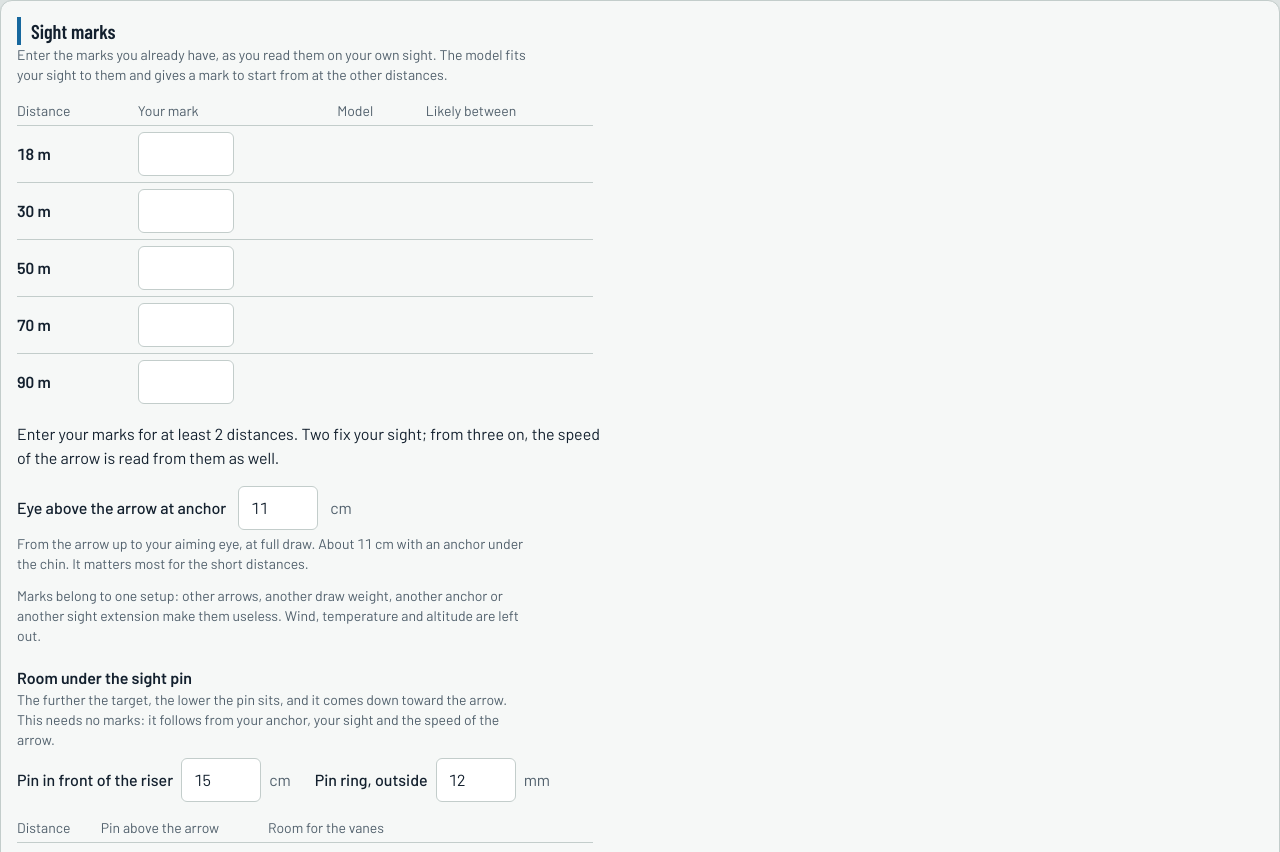
Scenario: SightMarksPanel › warns when the marks do not lie on one curve
Type "15" into the field named "Your sight mark at 18 m" at (186, 154), box [138, 132, 234, 176]
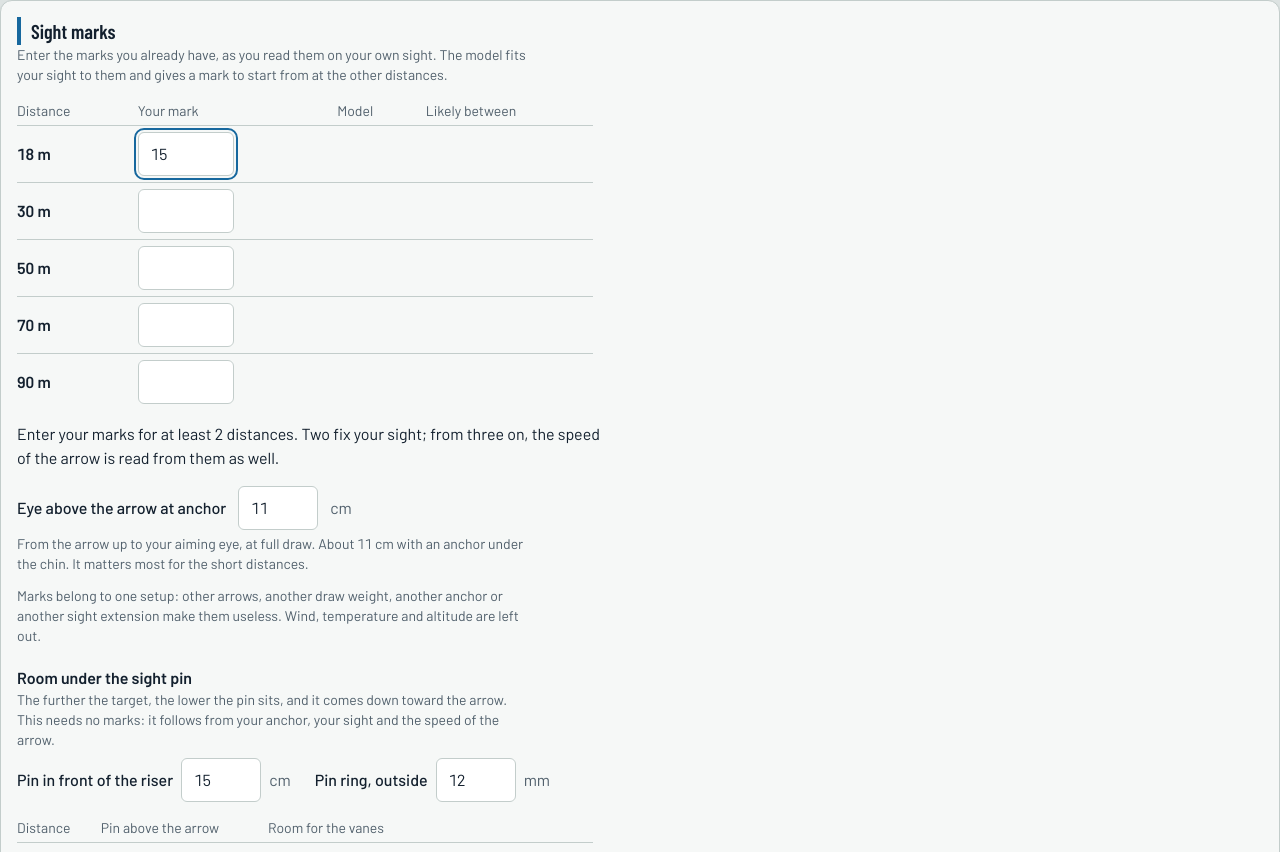
Press Tab
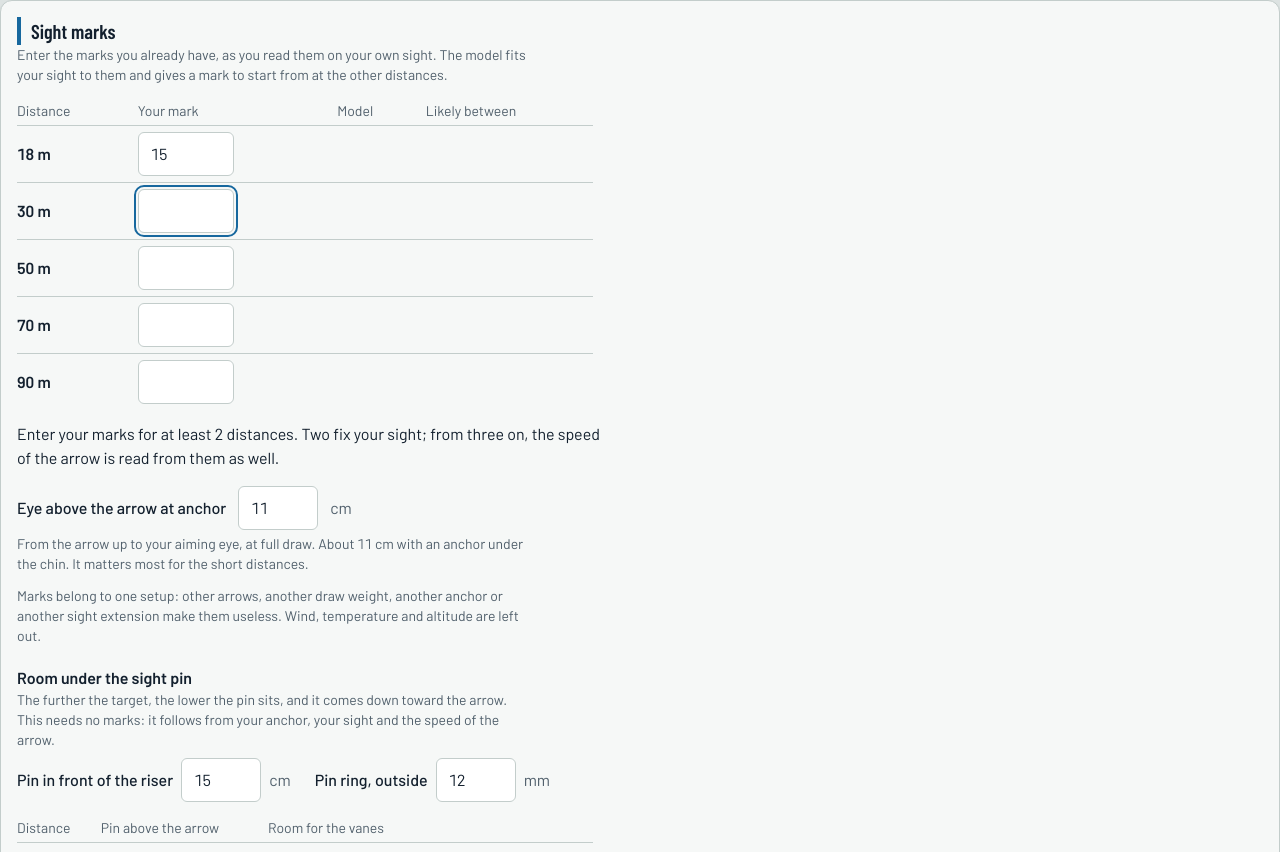
Type "14" into the field named "Your sight mark at 30 m" at (186, 211), box [138, 189, 234, 233]
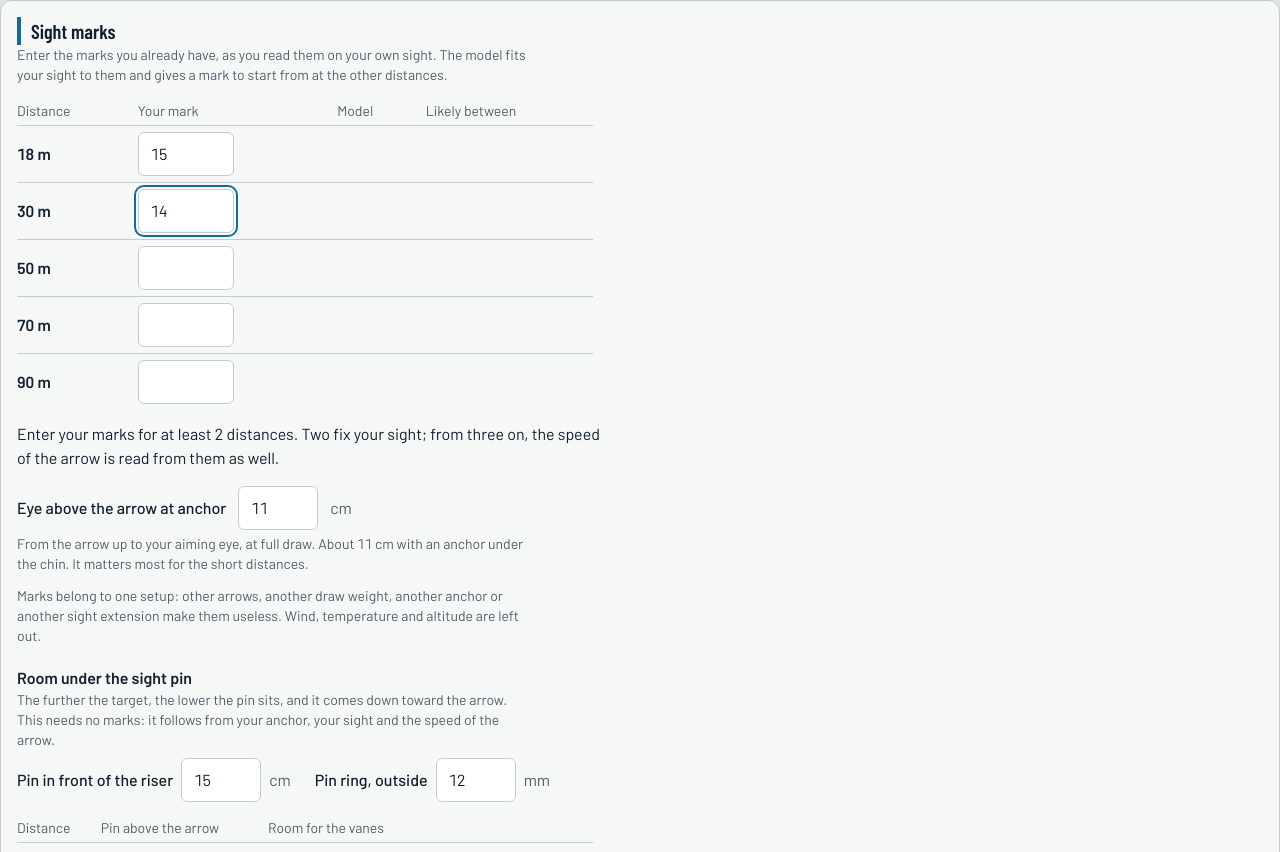
Press Tab
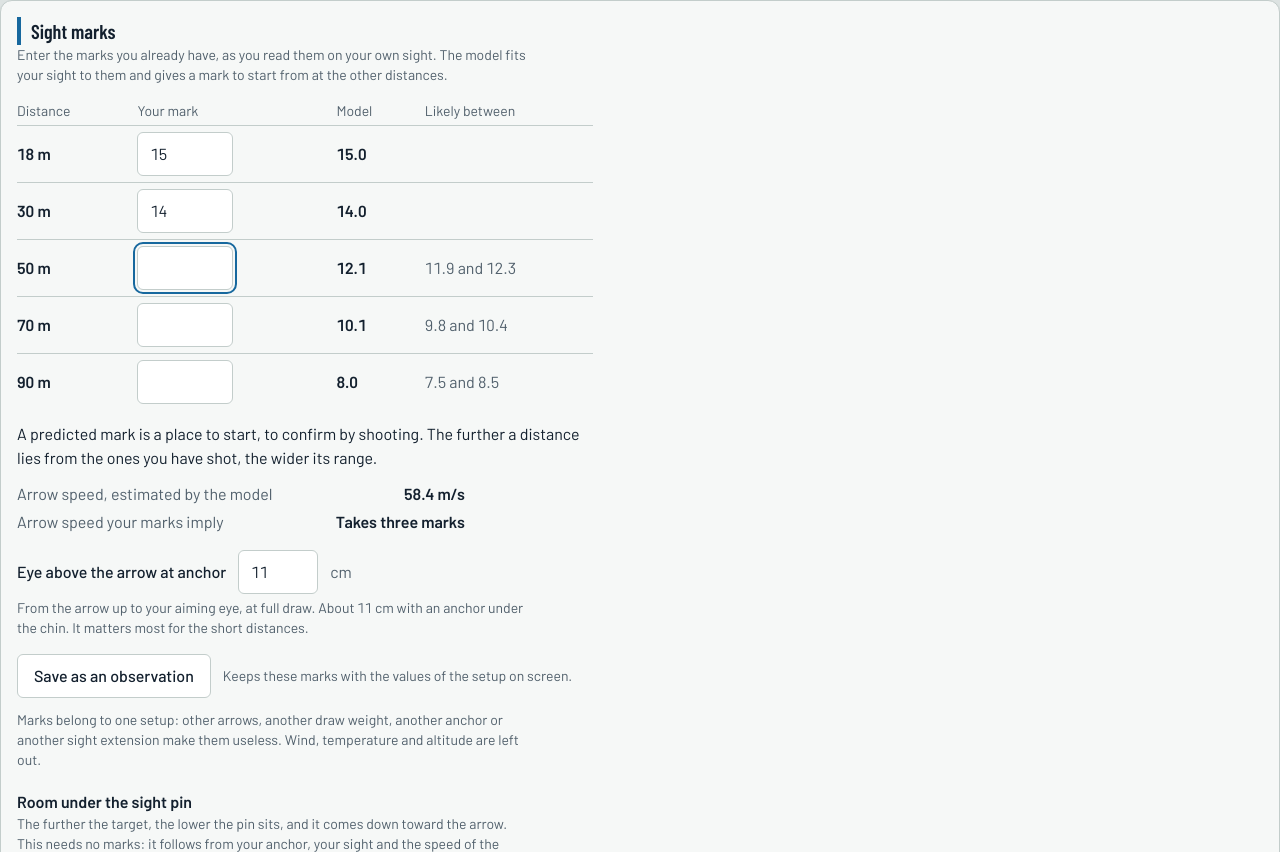
Type "40" into the field named "Your sight mark at 50 m" at (185, 268), box [137, 246, 233, 290]
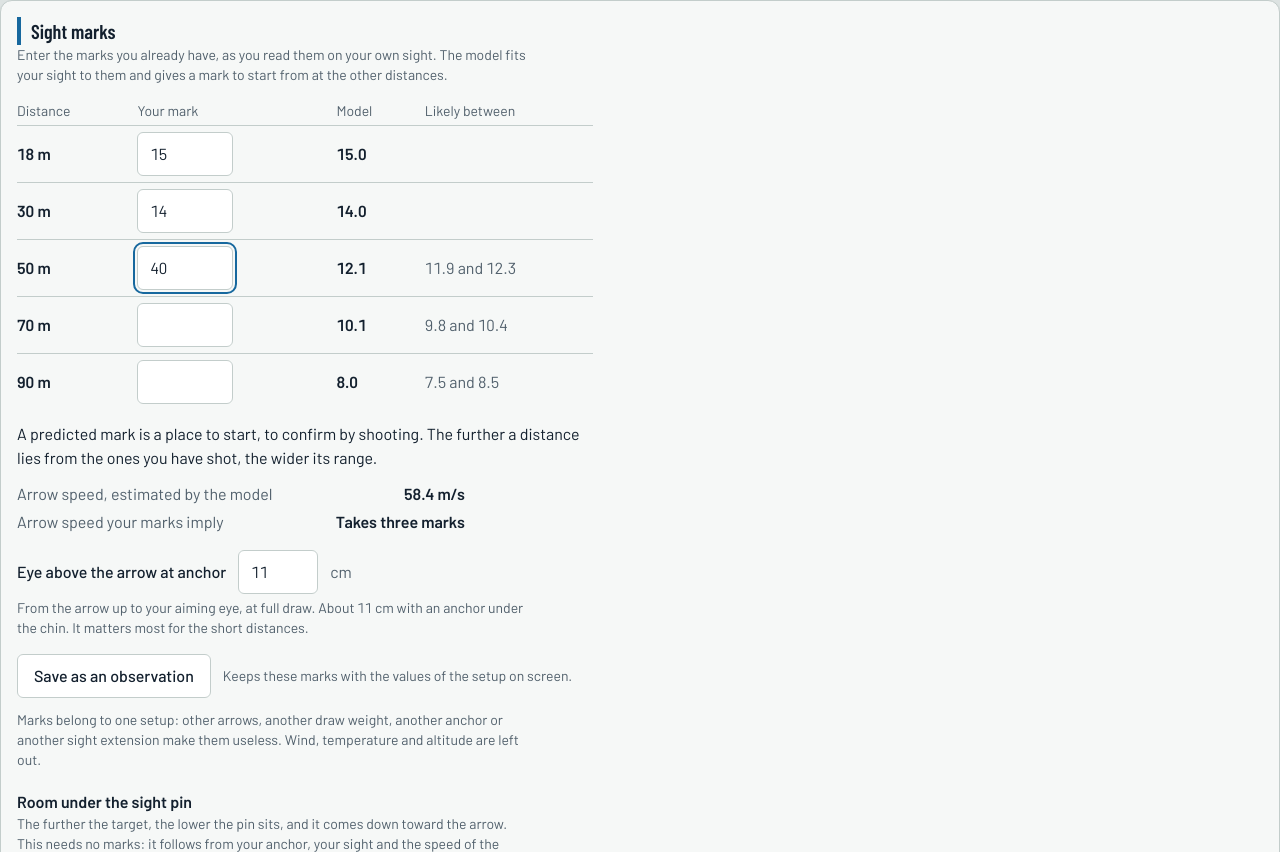
Press Tab
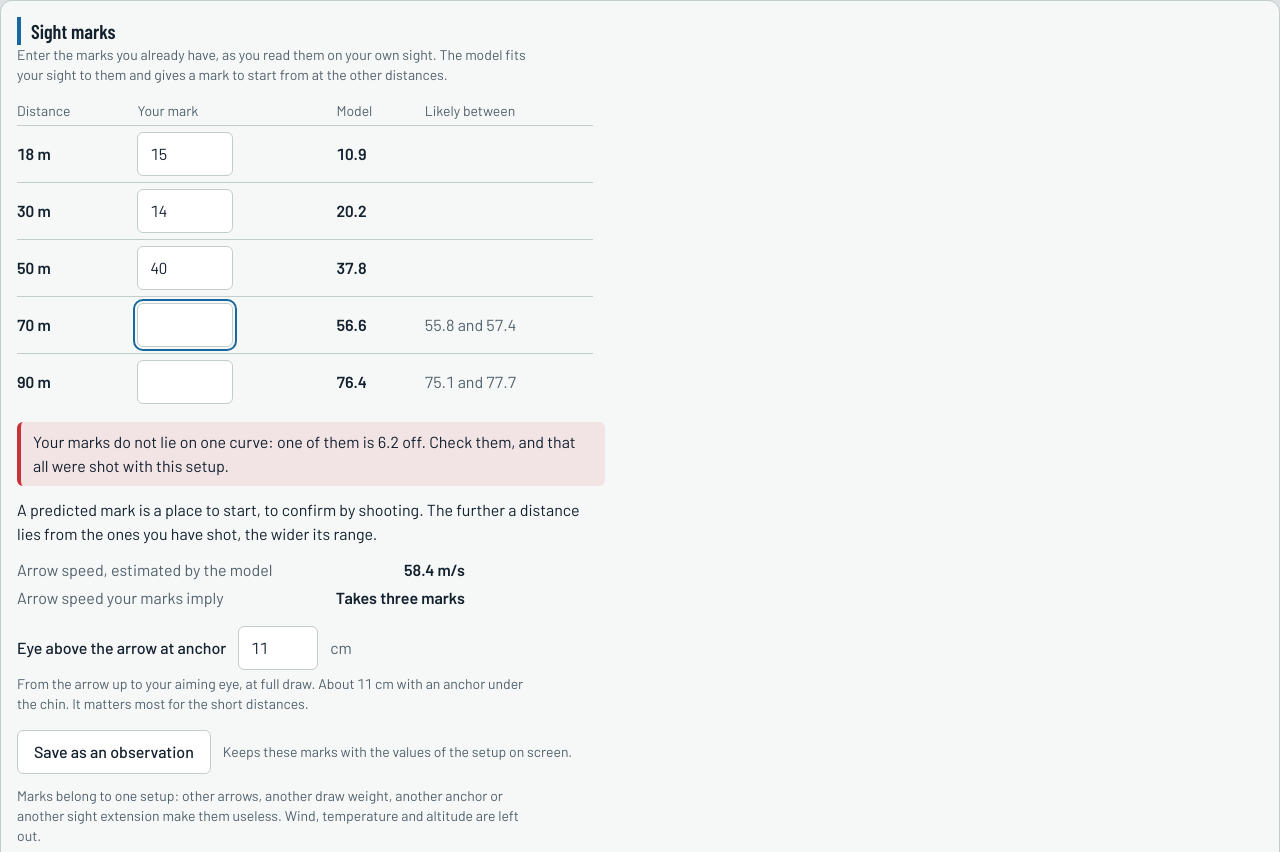
Result: the 1st message shows "do not lie on one curve" at [33, 432, 576, 475]
